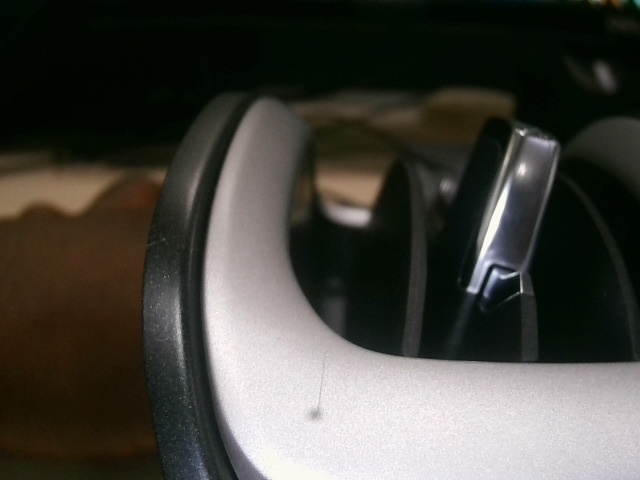NG: (308, 349, 335, 422), (146, 225, 176, 288)
